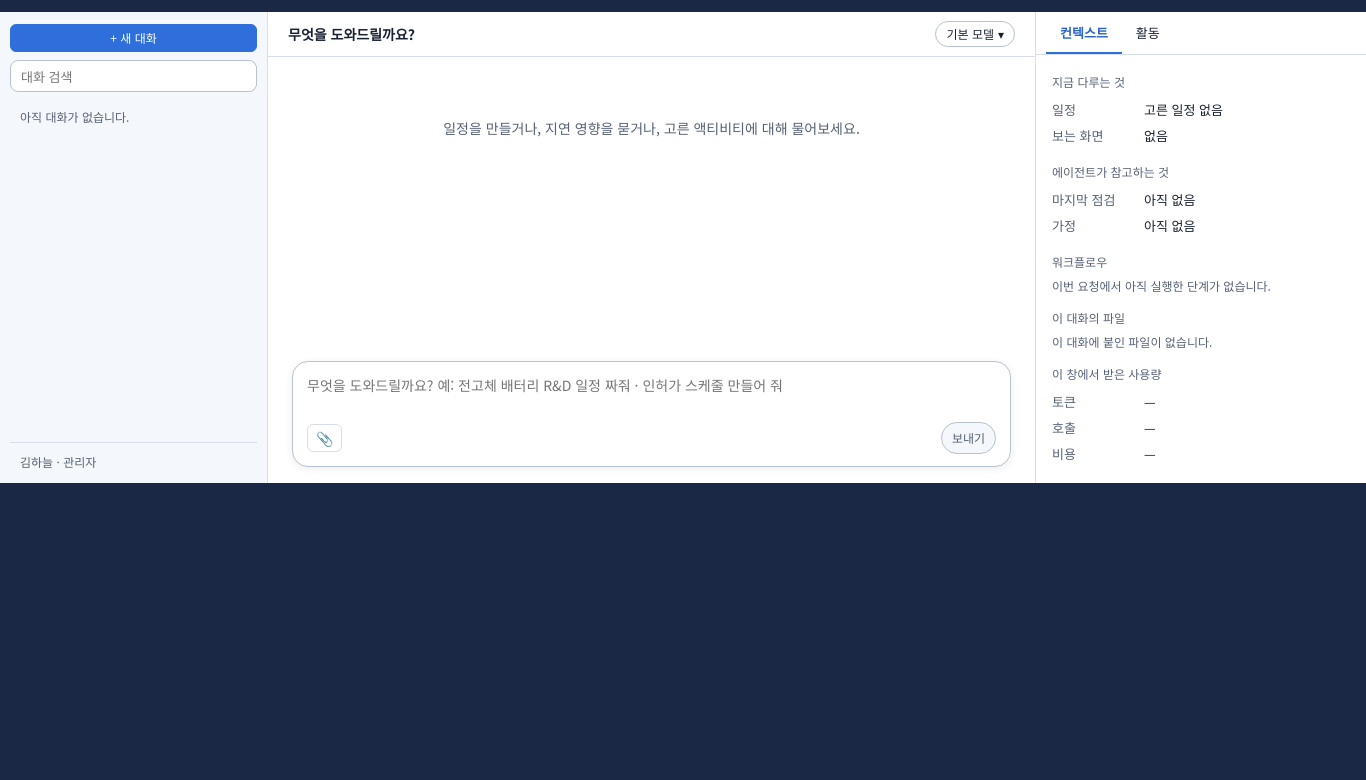
Test: R2 · every card kind the backend sends › mini questions are answered in the chat as one message
Type "공정표 만들어 줘" into the text box named "에이전트에게 요청" at (652, 398), box [307,374,996,422]
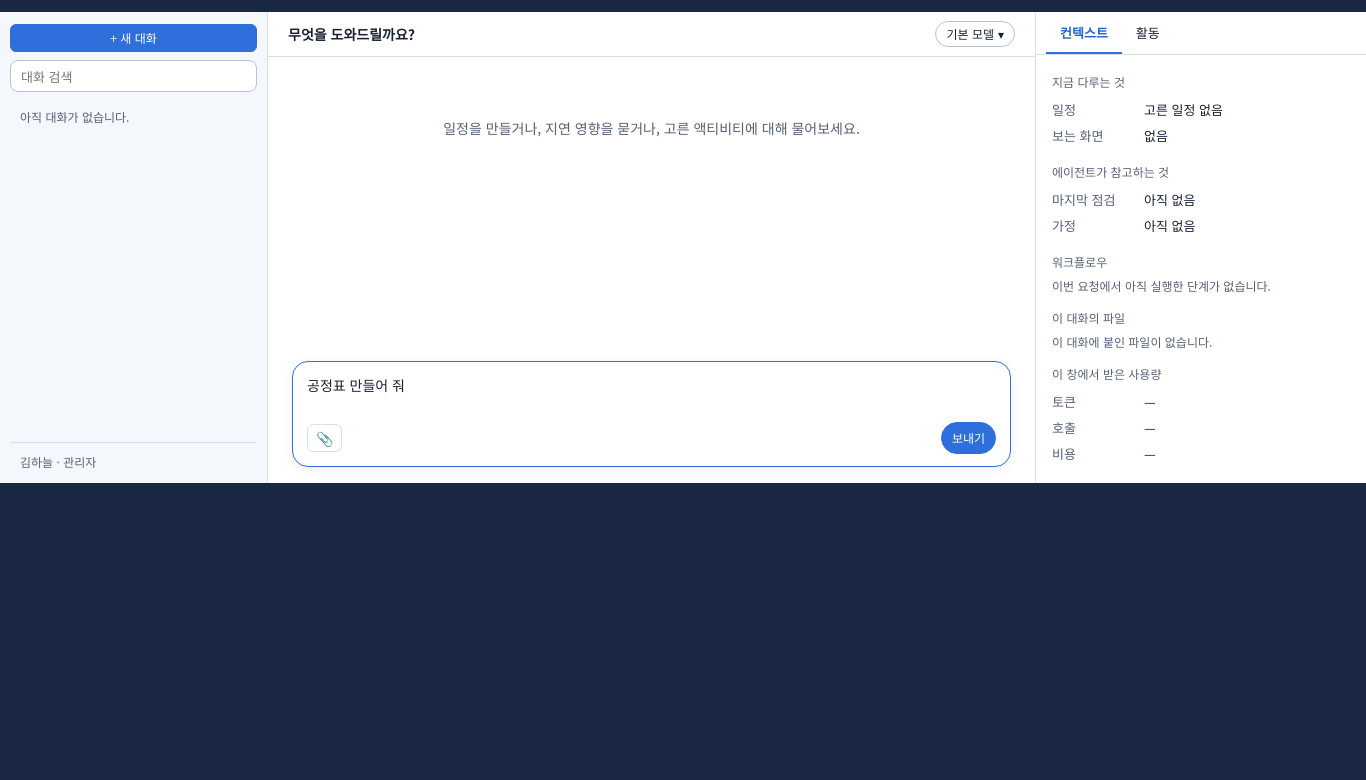
Click the button "보내기" at (968, 438), box [941,422,996,454]
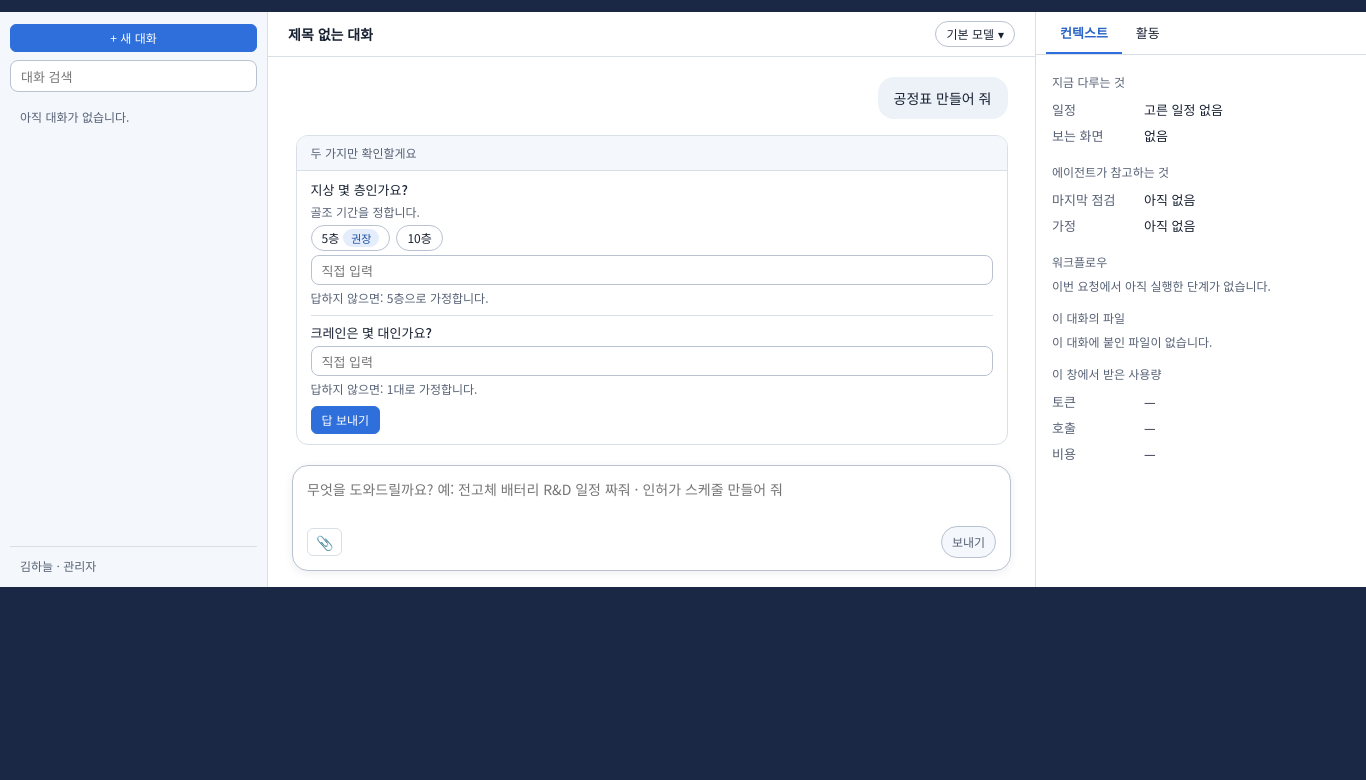
Result: the text "권장" is shown at [343,229,380,247]
Click the button "10층" at (420, 238), box [396,225,443,251]
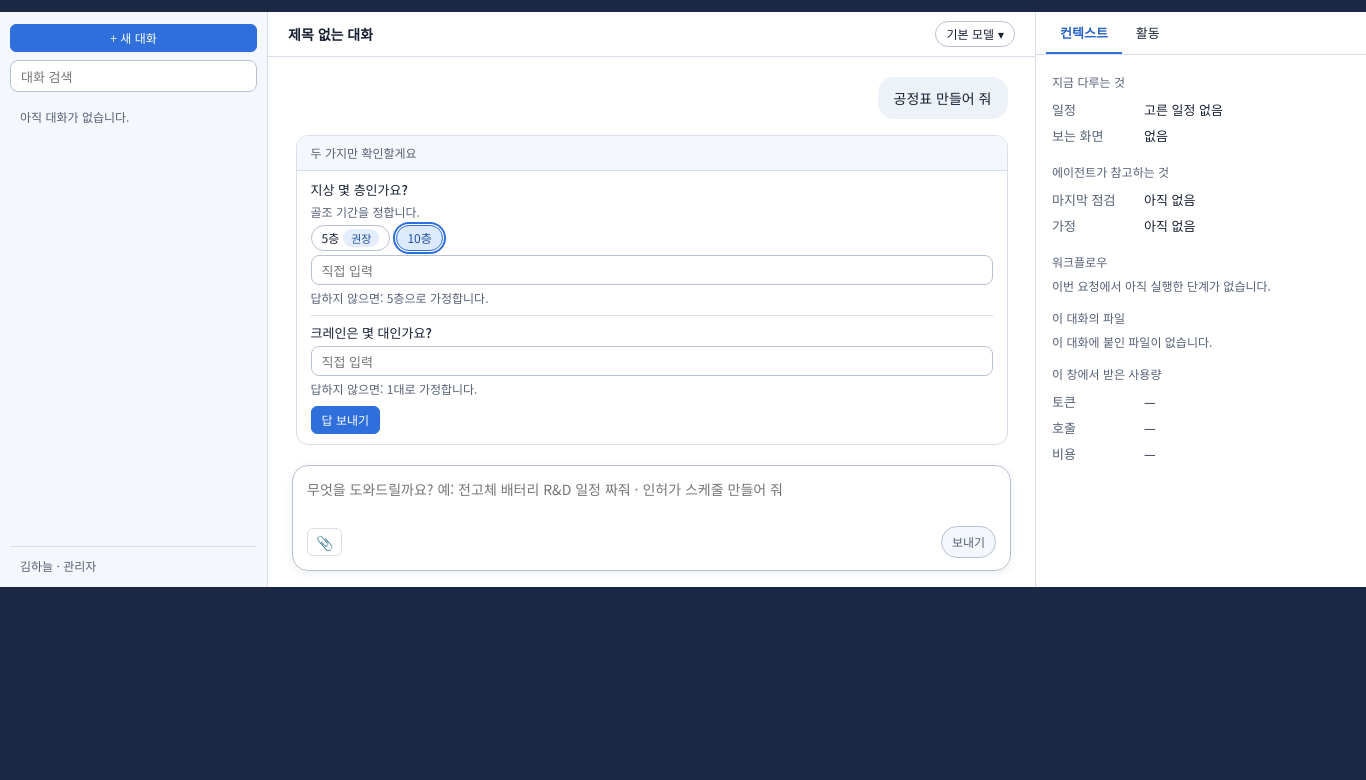
Result: the button "10층" is pressed at [396,225,443,251]
Click the button "답 보내기" at (345, 420), box [310,406,380,434]
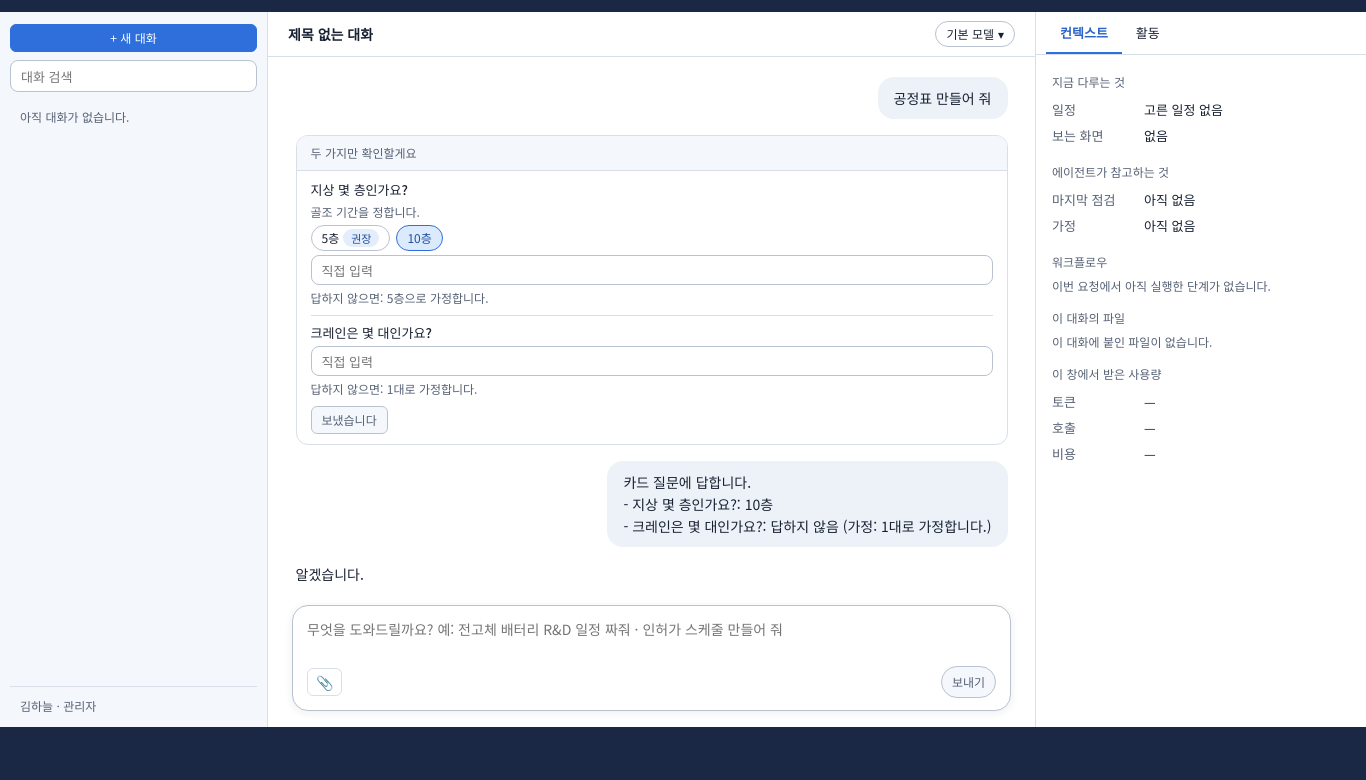
Result: the text "알겠습니다." is shown at [296,564,364,584]
Result: the button "보냈습니다" is disabled at [310,406,388,434]
